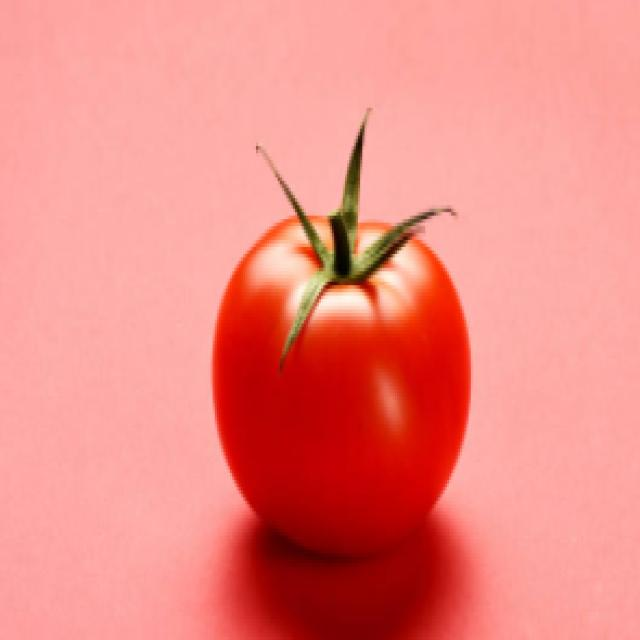Tomato: (210, 181, 484, 572)
